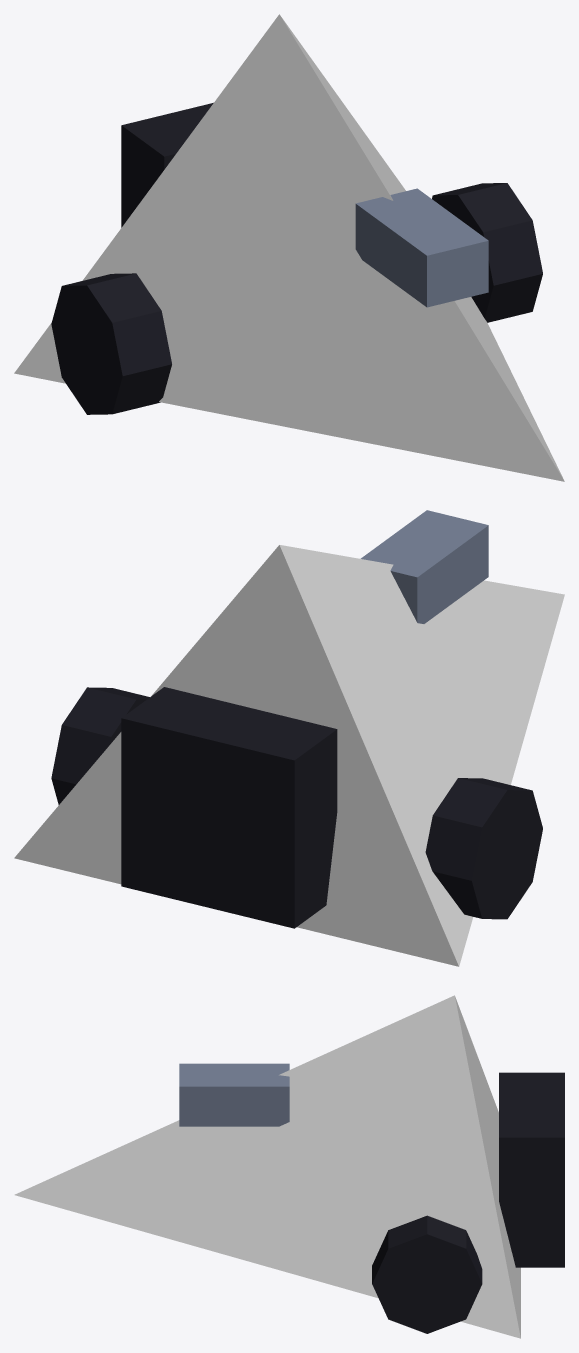
The model's file is Enemy_dart.fbx.
3 renders of one model, top to bottom at view 1: azimuth 30°, elevation 25°; view 2: azimuth 150°, elevation 25°; view 3: azimuth 270°, elevation 25°, orthographic. The views are drawn at different scales.
Parts seen in each view (by area): view 1: Enemy_dart; view 2: Enemy_dart; view 3: Enemy_dart.
Boxes of the visible parts, box(x1,y1,x2,y2) form: Enemy_dart: box(14, 14, 564, 481); Enemy_dart: box(14, 510, 564, 966); Enemy_dart: box(14, 995, 564, 1338).
Bounding box in the file's own units: 0.72 × 0.52 × 1.
